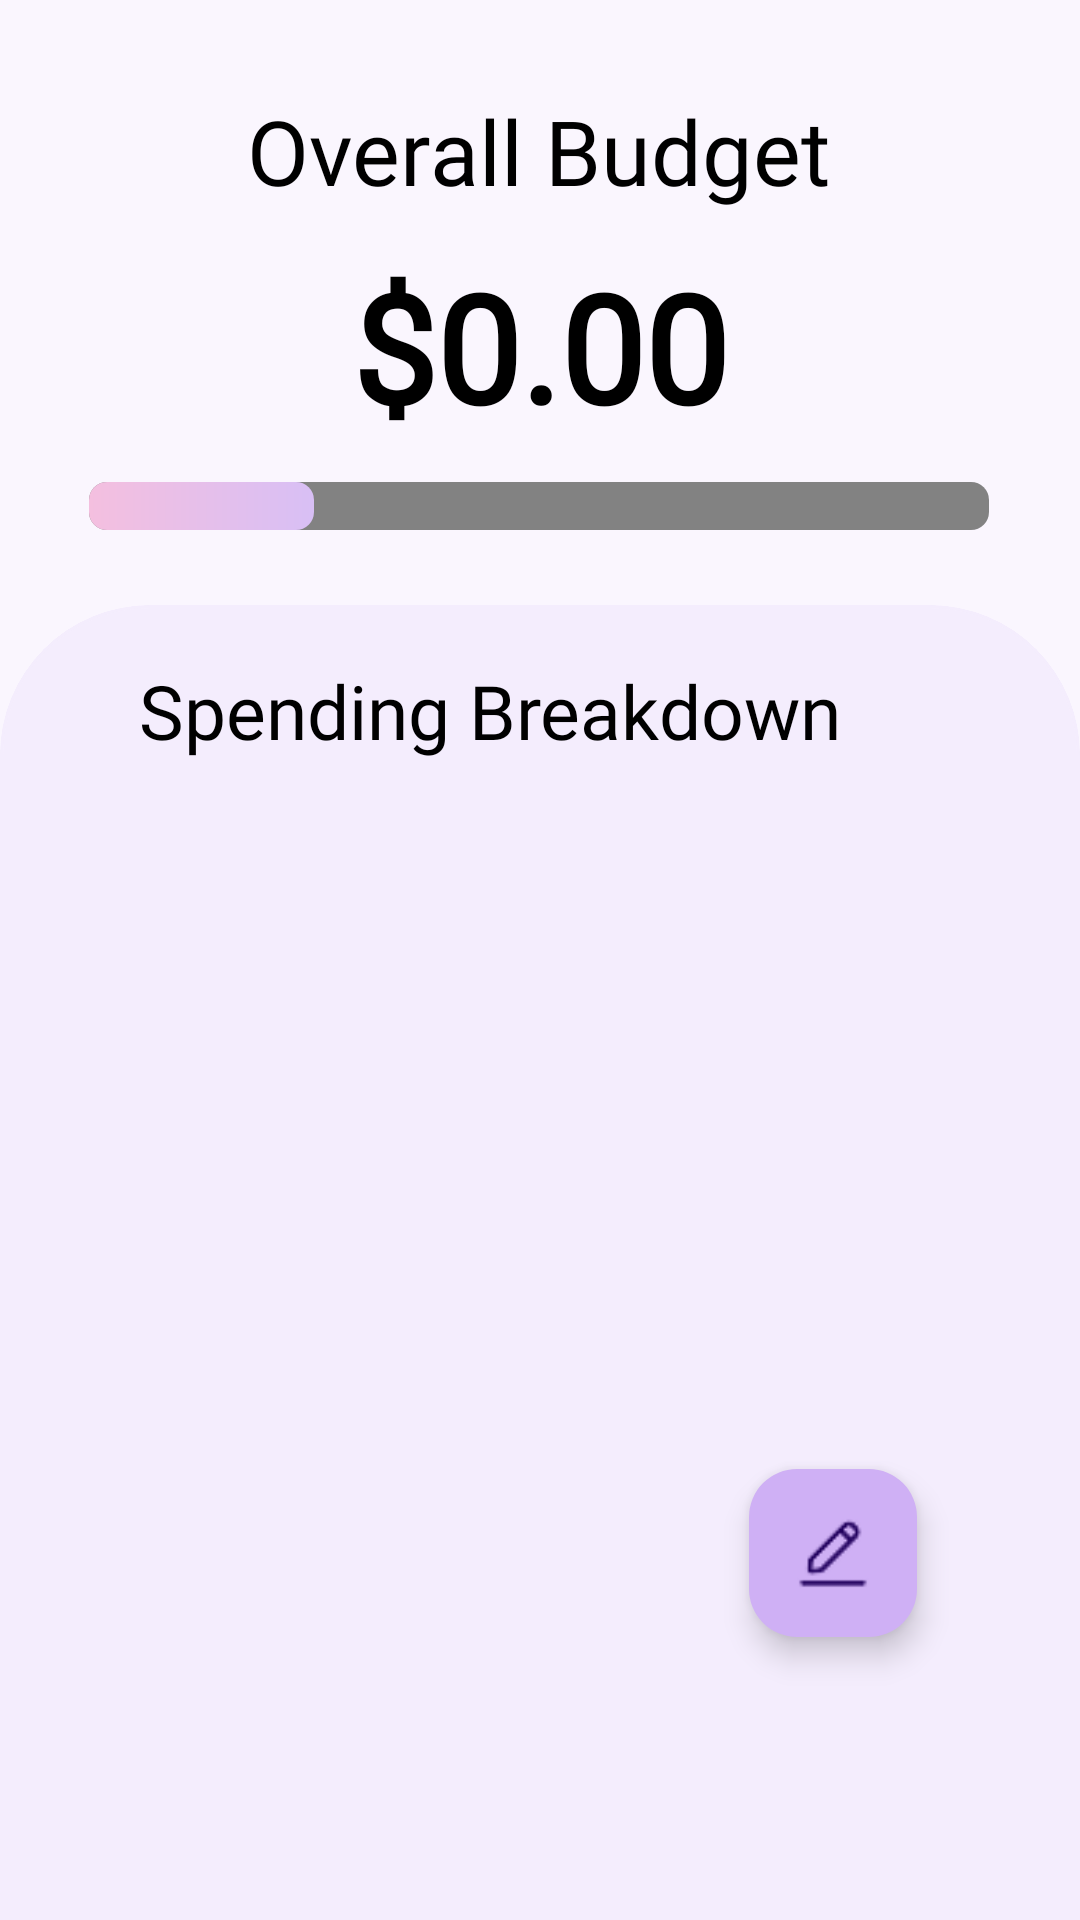

Icons on this 1080*1920 Android screen, each with its box as bbox(x1, y1, x2, y2):
editicon: bbox(749, 1469, 917, 1637)
